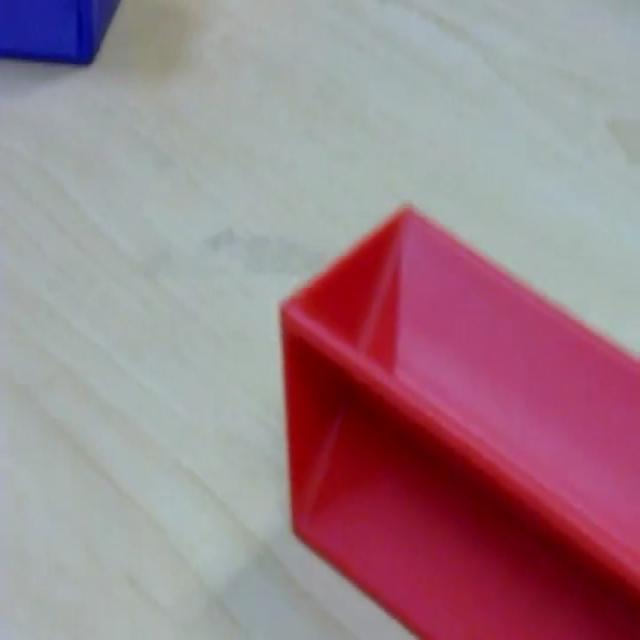red_block: (277, 200, 638, 636)
